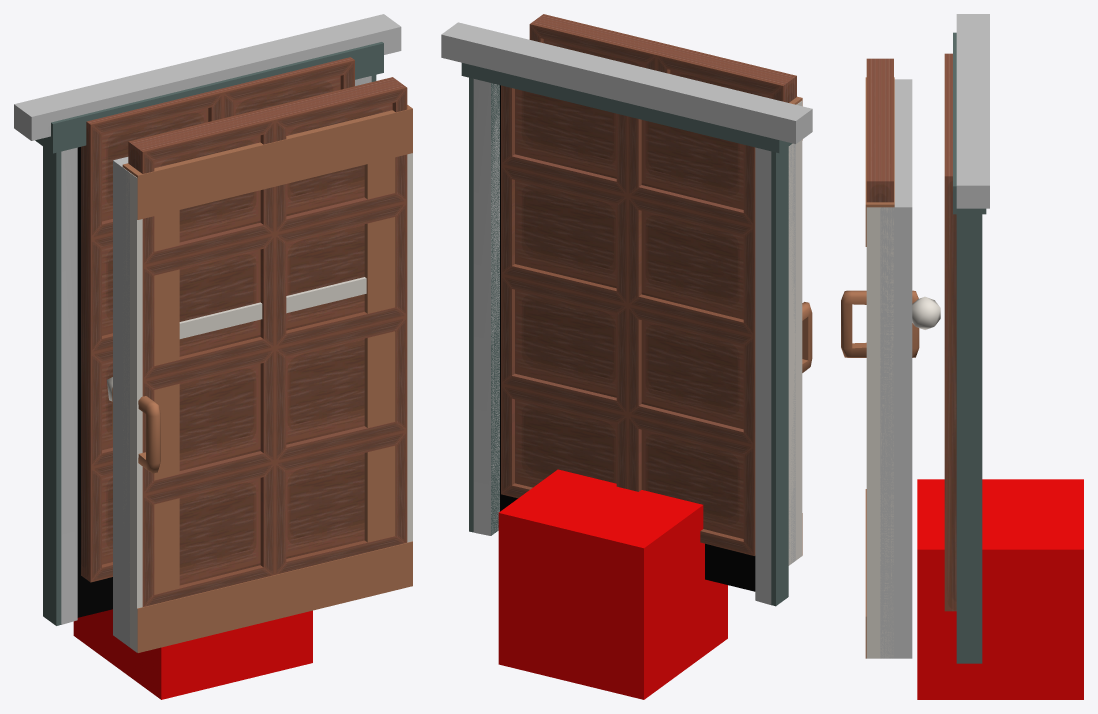
Rendered from Door_Prefab (1).fbx.
3 views of the same model, side by side, from view 1: azimuth 30°, elevation 25°; view 2: azimuth 150°, elevation 25°; view 3: azimuth 270°, elevation 25° (orthographic). The views are drawn at different scales.
Parts seen in each view (by area): view 1: ArchDoor, Door, ArchDoorFrame, BarnDoorFrame, Door_Frame, GlassDoor, Entry_Exit_Zone, BarnDoor; view 2: ArchDoorFrame, Entry_Exit_Zone, BarnDoorFrame, Door_Frame, ArchDoor, GlassDoor, BarnDoor; view 3: Entry_Exit_Zone, BarnDoor, Door_Frame, GlassDoor, BarnDoorFrame, ArchDoorFrame, ArchDoor, Door.
Part boxes in pixels (box(x1,y1,x2,y2)): ArchDoor: box(128, 77, 407, 606); Door: box(122, 105, 412, 652); ArchDoorFrame: box(81, 57, 354, 582); BarnDoorFrame: box(14, 14, 401, 624); Door_Frame: box(35, 42, 383, 625); GlassDoor: box(112, 153, 412, 652); Entry_Exit_Zone: box(73, 609, 312, 699); BarnDoor: box(107, 157, 129, 647); ArchDoorFrame: box(501, 85, 755, 555); Entry_Exit_Zone: box(498, 469, 727, 699); BarnDoorFrame: box(441, 22, 812, 604); Door_Frame: box(461, 63, 792, 606); ArchDoor: box(529, 14, 796, 102); GlassDoor: box(788, 101, 812, 565); BarnDoor: box(788, 144, 795, 564); Entry_Exit_Zone: box(917, 479, 1083, 699); BarnDoor: box(880, 79, 940, 658); Door_Frame: box(953, 32, 986, 663); GlassDoor: box(841, 207, 919, 658); BarnDoorFrame: box(956, 14, 989, 208); ArchDoorFrame: box(944, 53, 956, 611); ArchDoor: box(866, 58, 893, 202); Door: box(865, 77, 894, 658).
Size of the model in its own units: 2.59 by 3.98 by 1.55.
